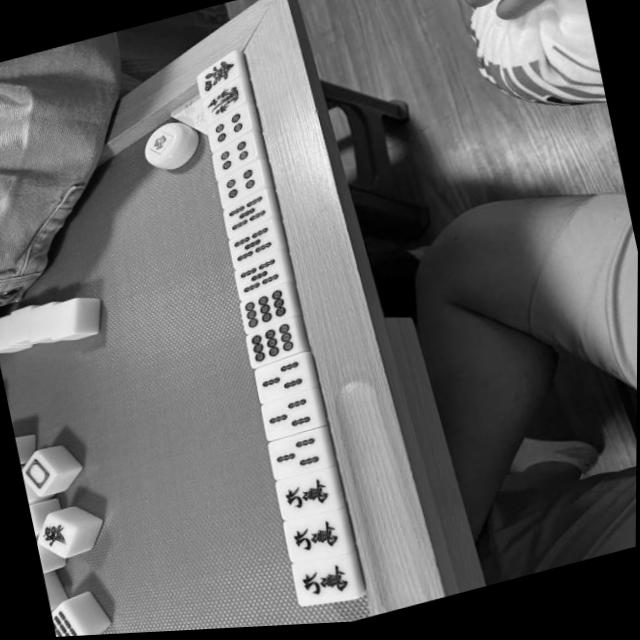bf4: (201, 85, 247, 119)
bs4: (195, 58, 243, 95)
sb3: (270, 433, 328, 480), (261, 393, 320, 439), (256, 358, 309, 399)
sb5: (222, 194, 274, 234), (227, 225, 279, 265), (235, 257, 284, 297)
sc9: (294, 554, 358, 608), (285, 514, 346, 564), (278, 472, 337, 519)
sd4: (217, 167, 266, 203), (212, 140, 260, 174), (208, 113, 250, 147)
sd9: (240, 287, 294, 332), (247, 322, 301, 367)
